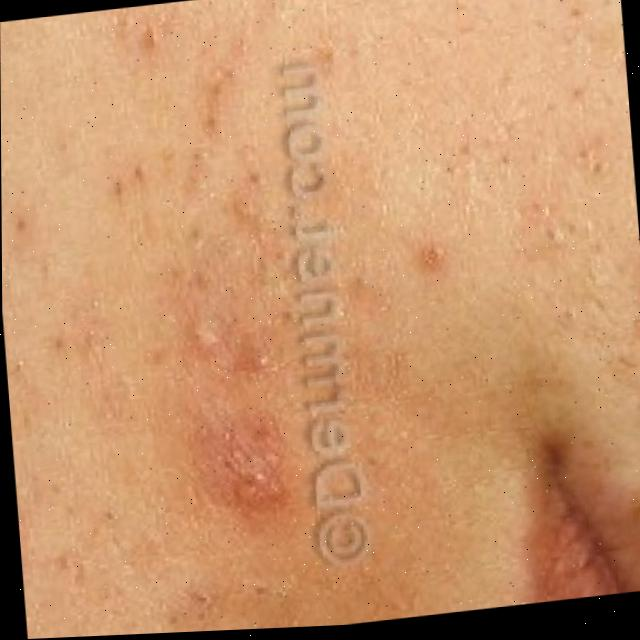Acne: (193, 318, 349, 516)
